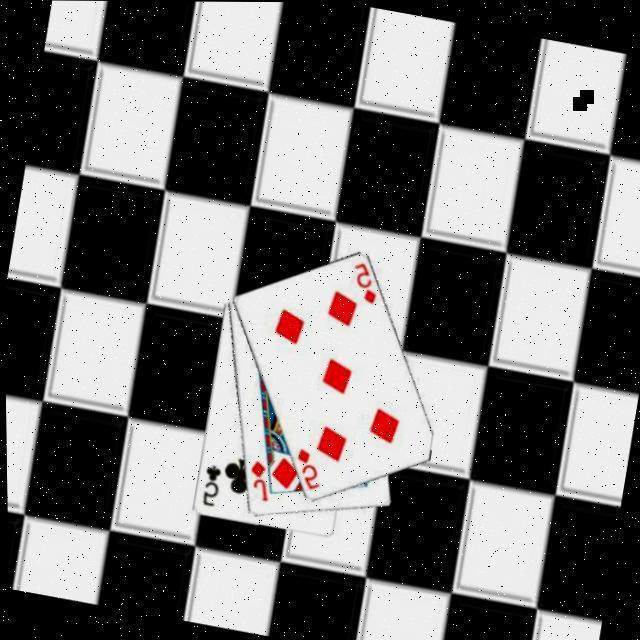5C: (192, 462, 222, 511)
5D: (286, 446, 326, 496), (342, 258, 382, 308)
JD: (238, 457, 274, 506)
